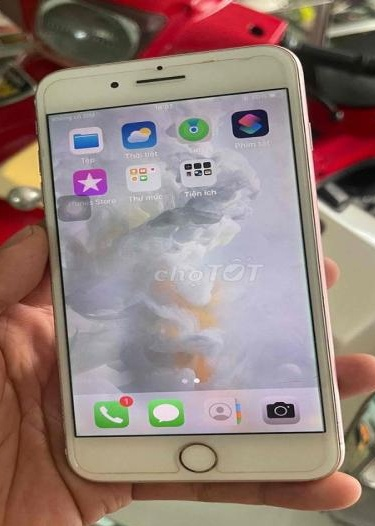scratch: (39, 50, 293, 119), (19, 138, 60, 204), (47, 438, 90, 466), (330, 427, 354, 461)
